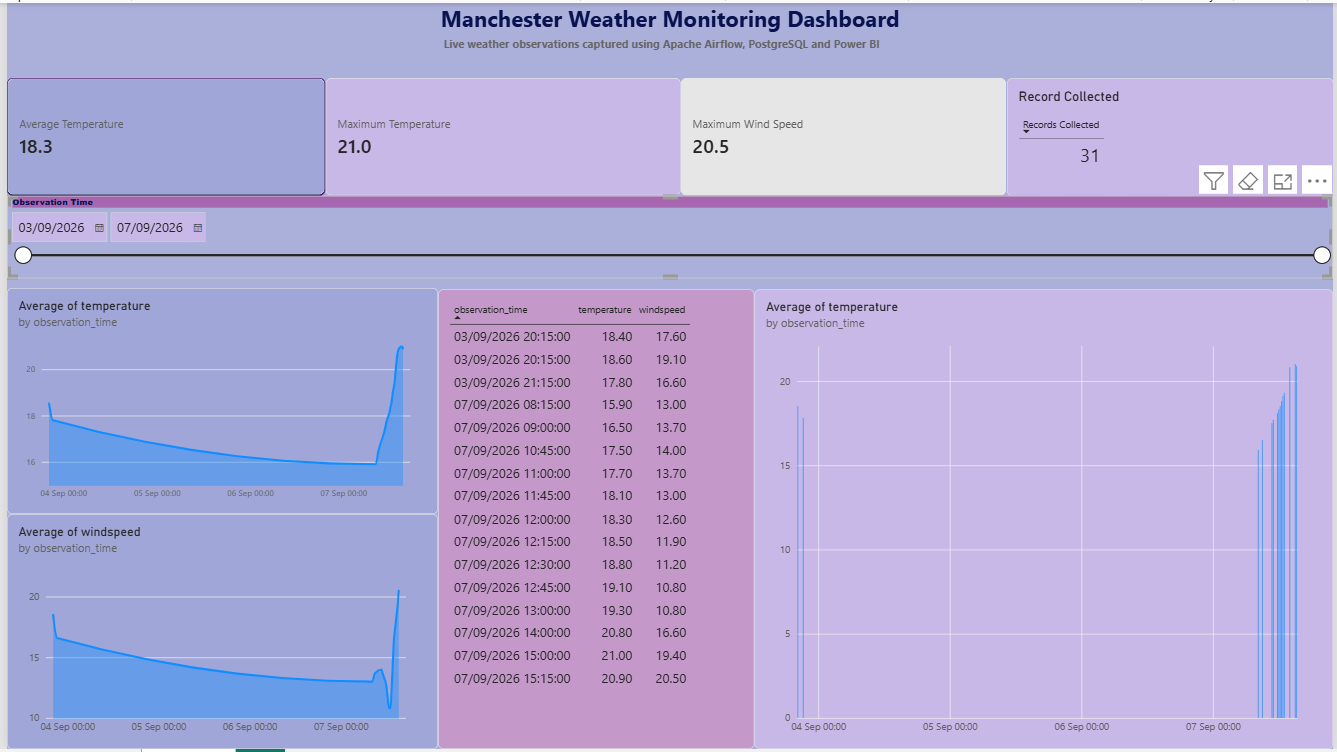

This screenshot's page, from the dashboard's own definition file:
{"tool":"powerbi","page":{"name":"Page 1","canvas":[1920,1080],"ordinal":0},"visuals":[{"type":"lineChart","fields":{"Category":["weather_data.observation_time"],"Y":["Avg(weather_data.temperature)"]},"box":[0,412.6,624.3,327.5],"z":0},{"type":"lineChart","fields":{"Category":["weather_data.observation_time.Variation.Date Hierarchy.Day"],"Y":["Avg(weather_data.windspeed)"]},"box":[0,740.2,624.3,340.2],"z":1000},{"type":"cardVisual","fields":{"Data":["weather_data.Maximum Wind Speed"]},"box":[975.6,107.9,471.4,170.8],"z":3000},{"type":"textbox","box":[0,0,1920.4,47.3],"z":4000},{"type":"cardVisual","fields":{"Data":["weather_data.Maximum Temperature"]},"box":[461.1,107.9,514.6,170.8],"z":5000},{"type":"tableEx","title":"Record Collected","fields":{"Values":["weather_data.Records Collected"]},"box":[1447,107.7,473,171],"z":6000},{"type":"textbox","box":[0,47.3,1895.7,30.9],"z":7000},{"type":"slicer","fields":{"Values":["weather_data.observation_time"]},"box":[0,278.7,1920.1,119.4],"z":7001},{"type":"clusteredColumnChart","fields":{"Category":["weather_data.observation_time"],"Y":["Avg(weather_data.temperature)"]},"box":[1082.2,414.4,837.9,666],"z":7003},{"type":"cardVisual","fields":{"Data":["weather_data.Average Temperature"]},"box":[0,108,461,170],"z":7004},{"type":"tableEx","fields":{"Values":["weather_data.observation_time","weather_data.temperature","weather_data.windspeed"]},"box":[624.3,414.4,457.8,666],"z":7005}]}

Visuals, with their boxes in screenshot pixels (x1, y1, x2, y2), scaled from the page's 1920x1080 canvas onto the 1337x752 screenshot:
lineChart - weather_data.observation_time x Avg(weather_data.temperature): crop(0, 287, 435, 515)
lineChart - weather_data.observation_time.Variation.Date Hierarchy.Day x Avg(weather_data.windspeed): crop(0, 515, 435, 751)
cardVisual - weather_data.Maximum Wind Speed: crop(679, 75, 1008, 194)
textbox: crop(0, 0, 1336, 33)
cardVisual - weather_data.Maximum Temperature: crop(321, 75, 679, 194)
"Record Collected" tableEx: crop(1008, 75, 1336, 194)
textbox: crop(0, 33, 1320, 54)
slicer - weather_data.observation_time: crop(0, 194, 1336, 277)
clusteredColumnChart - weather_data.observation_time x Avg(weather_data.temperature): crop(754, 289, 1336, 751)
cardVisual - weather_data.Average Temperature: crop(0, 75, 321, 194)
tableEx - weather_data.observation_time x weather_data.temperature: crop(435, 289, 754, 751)
